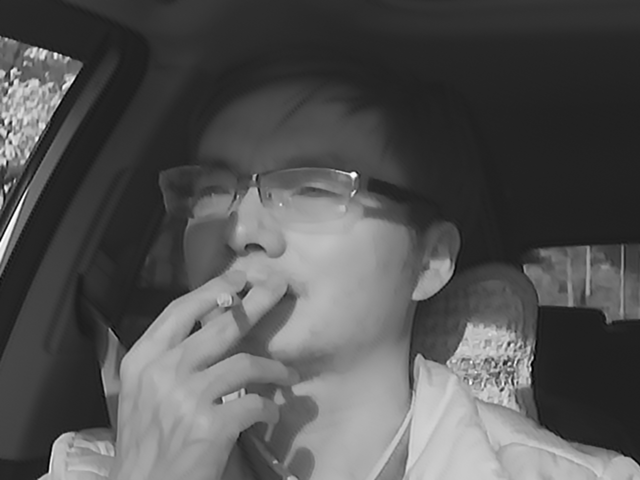hand: (120, 269, 299, 438)
